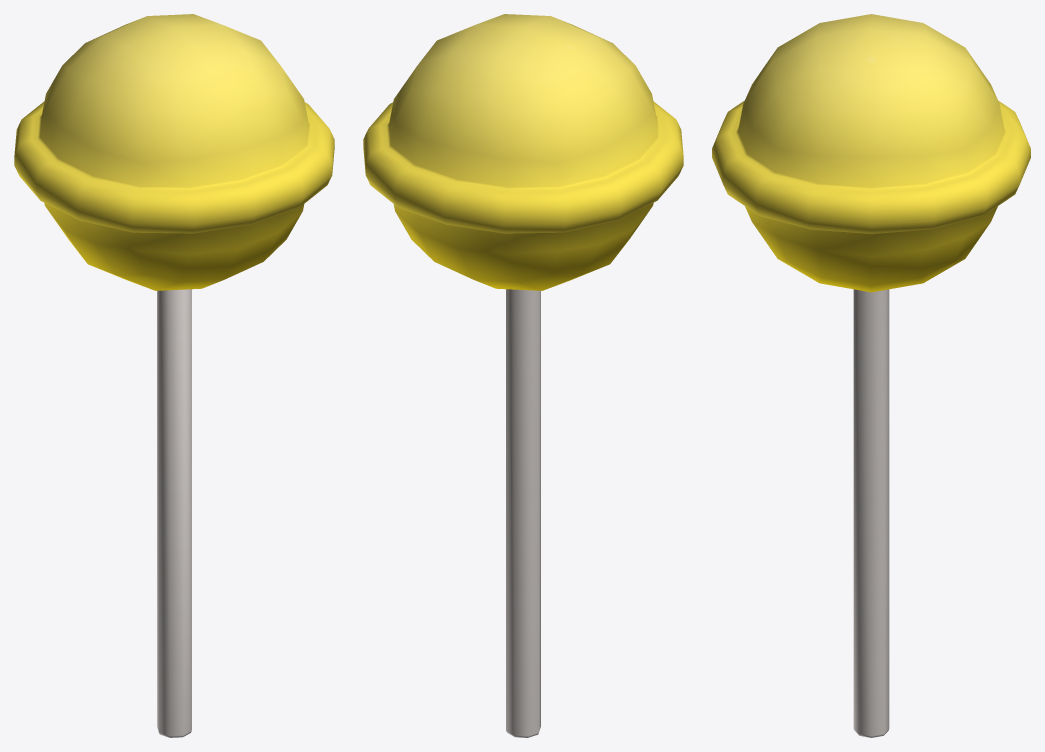
The model's file is candy_glass_6.fbx.
3 renders of one model, left to right at view 1: azimuth 30°, elevation 25°; view 2: azimuth 150°, elevation 25°; view 3: azimuth 270°, elevation 25°, orthographic.
Parts seen in each view (by area): view 1: c_g_6; view 2: c_g_6; view 3: c_g_6.
Part boxes in pixels (<box>): c_g_6: <box>14,14,334,737</box>; c_g_6: <box>363,14,683,737</box>; c_g_6: <box>712,14,1030,737</box>.
Size of the model in its own units: 124 by 301 by 124.
